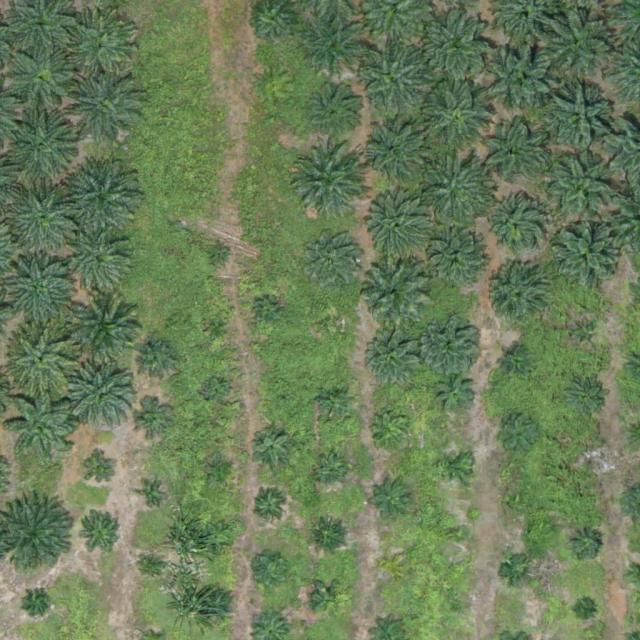Healthy: (63, 7, 141, 86), (4, 184, 82, 263), (65, 70, 143, 149), (63, 161, 141, 240), (69, 298, 147, 377), (288, 142, 366, 221), (544, 151, 622, 230), (420, 152, 498, 230), (301, 11, 371, 82), (360, 46, 430, 117), (422, 80, 492, 151), (542, 11, 612, 82), (554, 223, 625, 293), (9, 324, 79, 395), (361, 192, 431, 262), (357, 257, 427, 327), (422, 10, 492, 80), (483, 42, 553, 112), (543, 82, 613, 152), (69, 365, 139, 435), (8, 390, 78, 460), (69, 233, 132, 296), (300, 229, 363, 292), (482, 122, 545, 185), (482, 266, 545, 329), (365, 122, 427, 185), (426, 229, 488, 292), (484, 195, 546, 258), (423, 314, 485, 377), (11, 51, 73, 113), (368, 334, 423, 389), (308, 83, 362, 138), (205, 524, 236, 556), (505, 353, 529, 376)
Small: (78, 508, 125, 555), (246, 548, 293, 595), (494, 411, 541, 458), (138, 338, 178, 378), (309, 515, 349, 555), (315, 384, 355, 424), (197, 588, 237, 627), (132, 400, 172, 439), (251, 427, 290, 467), (372, 481, 412, 520), (567, 378, 606, 418), (372, 412, 411, 452), (436, 373, 475, 412), (87, 456, 118, 488), (440, 450, 471, 482), (570, 528, 601, 560), (313, 584, 344, 615), (256, 491, 287, 522), (315, 455, 346, 486), (502, 558, 533, 589), (567, 319, 598, 350), (25, 589, 49, 613), (507, 492, 531, 516), (204, 379, 228, 403), (207, 317, 231, 341), (207, 243, 231, 267), (209, 457, 233, 481), (323, 314, 347, 337), (258, 301, 281, 325), (141, 486, 164, 509), (143, 554, 166, 577), (451, 525, 467, 541), (385, 559, 401, 575), (584, 450, 599, 466), (577, 602, 592, 618), (451, 598, 467, 613), (277, 395, 293, 410)
